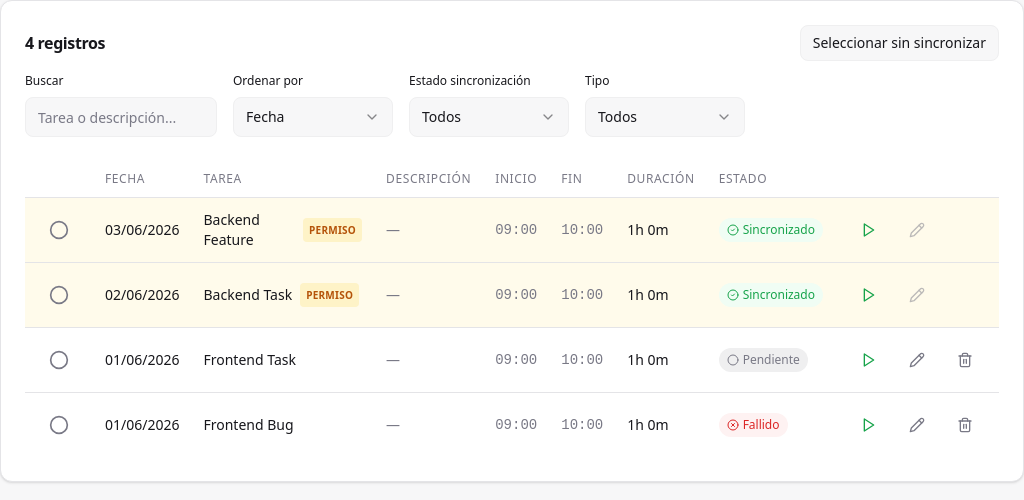
TimeEntryViewSwitcher › selection controls › Tipo filter (recoverable) › filtering by "Normal" hides recoverable entries
The image size is (1024, 500).
Note: Find and click the Tipo filter
Click the dropdown labelled "Todos" below "Tipo" at (665, 117), box [585, 97, 745, 137]
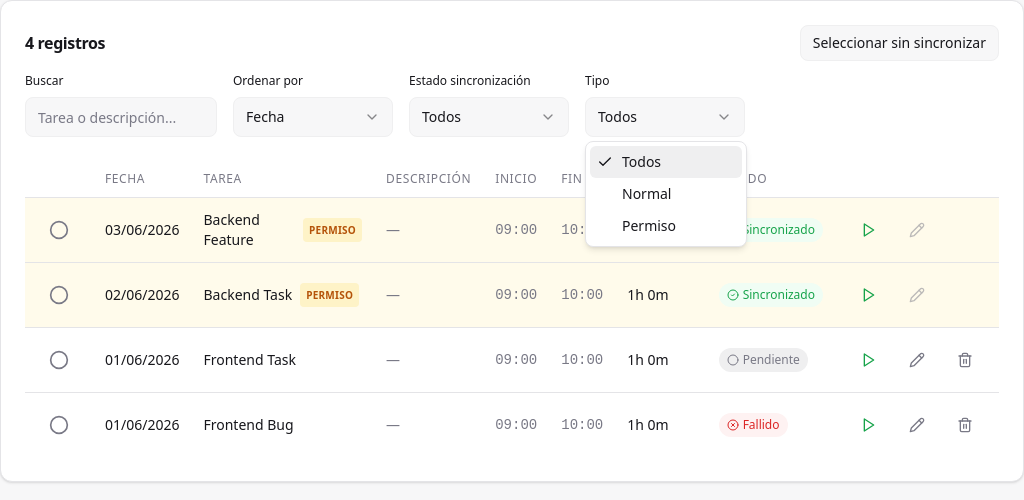
Note: Select "Normal"
Click the option "Normal" at (647, 194), box [622, 184, 672, 203]
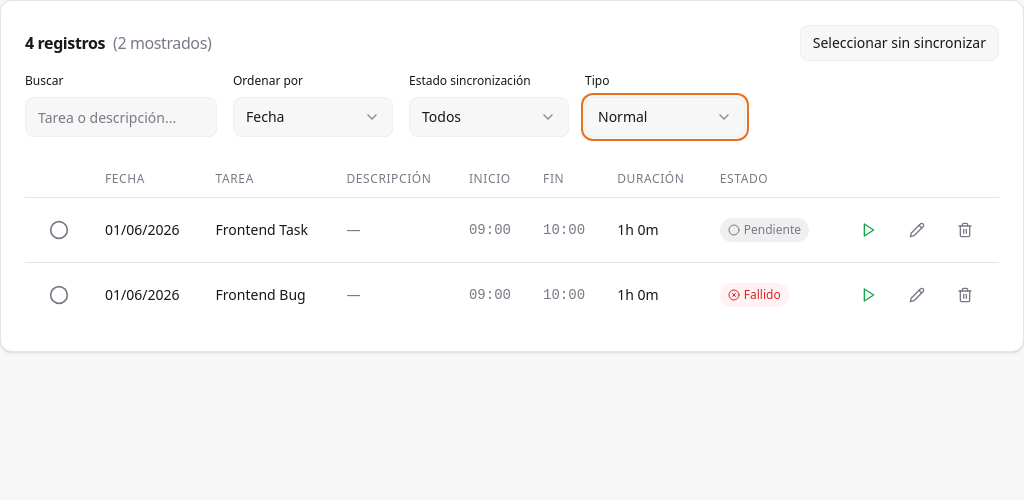
Now the text "Backend Task" is gone
Now the text "Backend Feature" is gone
Now the text "(2 mostrados)" is shown, box [113, 32, 211, 54]
